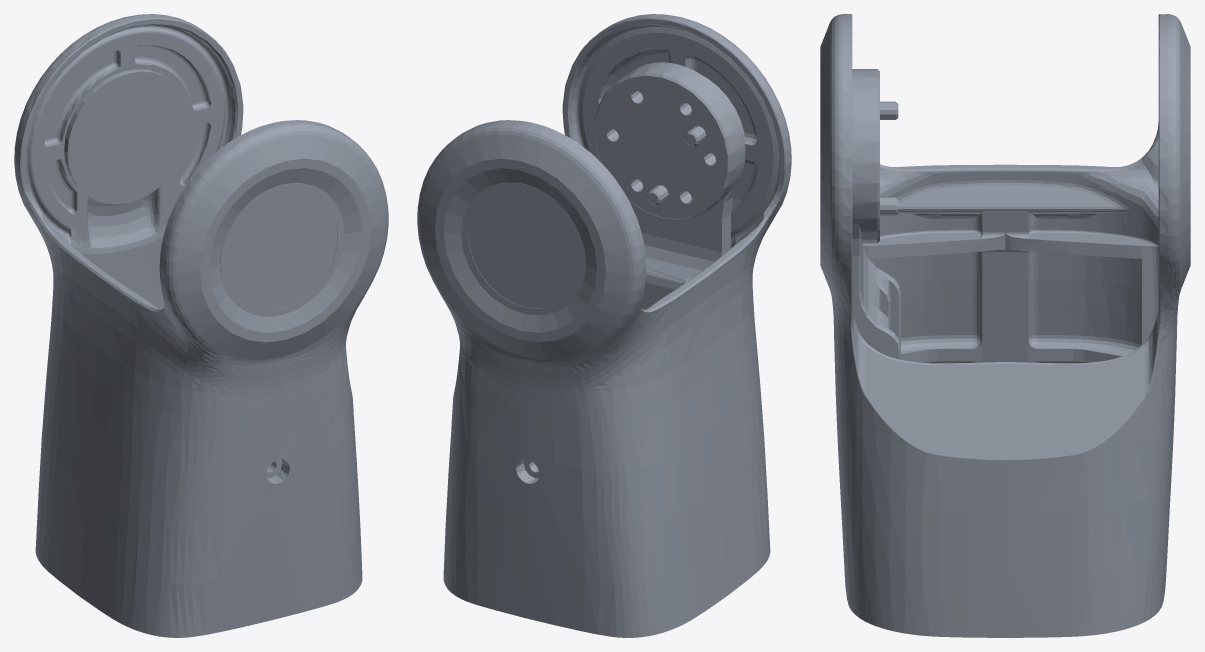
3 renders of one model, left to right at view 1: azimuth 30°, elevation 25°; view 2: azimuth 150°, elevation 25°; view 3: azimuth 270°, elevation 25°, orthographic. The views are drawn at different scales.
Bounding box in the file's own units: 0.0679 × 0.135 × 0.0808.
